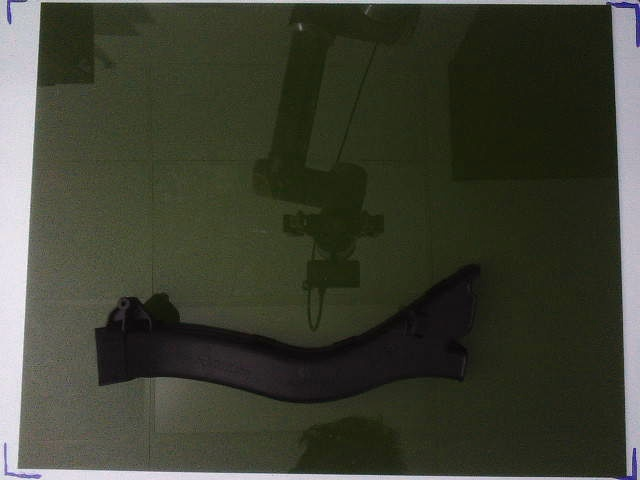887_A-Top: (95, 264, 483, 402)
